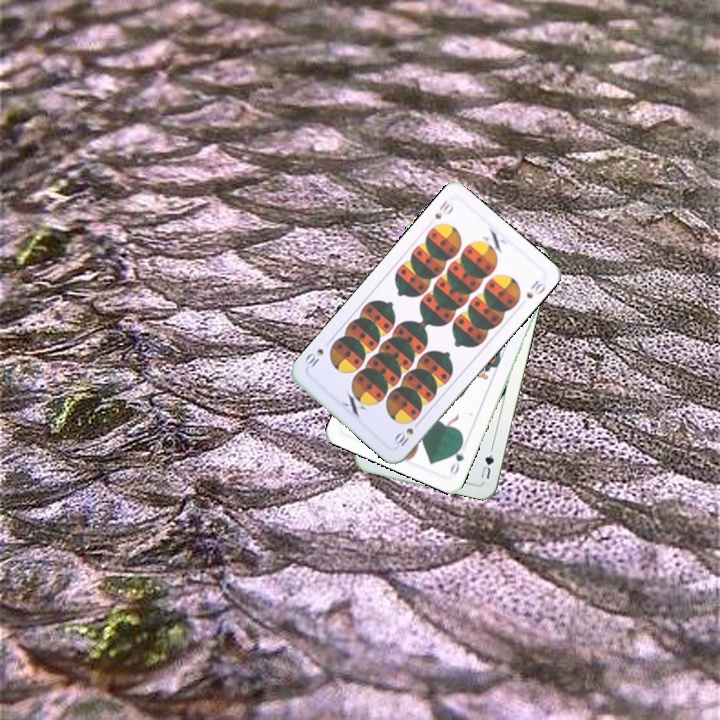GO: (446, 438, 466, 477)
GU: (476, 450, 497, 482)
S10: (390, 424, 416, 450), (431, 196, 456, 222)
